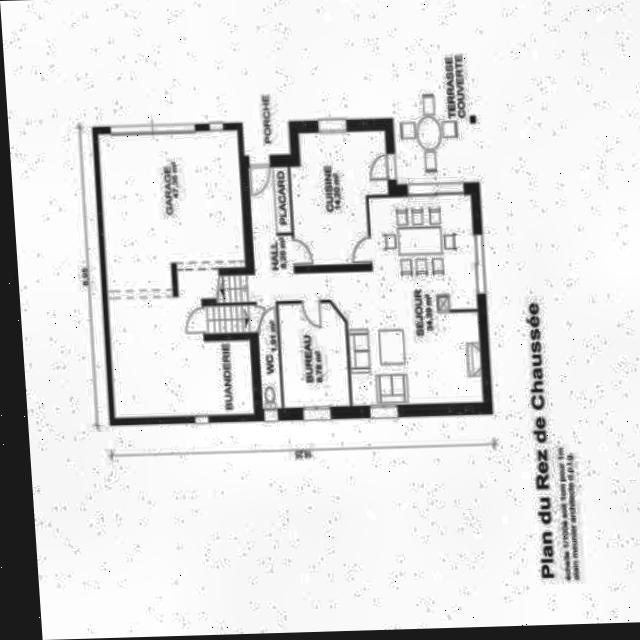room: (248, 141, 484, 414), (98, 125, 255, 422), (289, 129, 399, 265), (278, 297, 351, 409), (204, 273, 259, 332), (259, 331, 283, 408)
